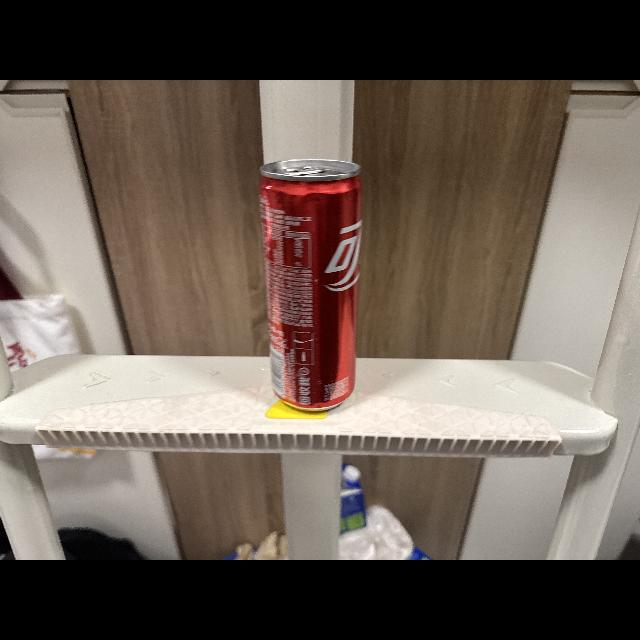Cola: (254, 154, 366, 416)
